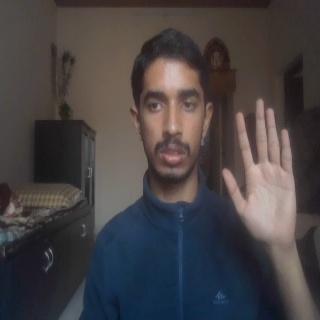Face: (128, 28, 213, 188)
Hello: (220, 97, 300, 253)
